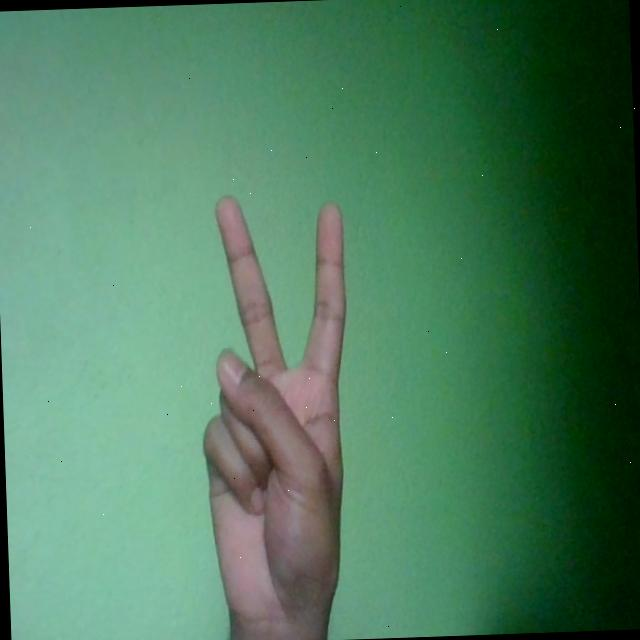Fist: (195, 192, 358, 638)
